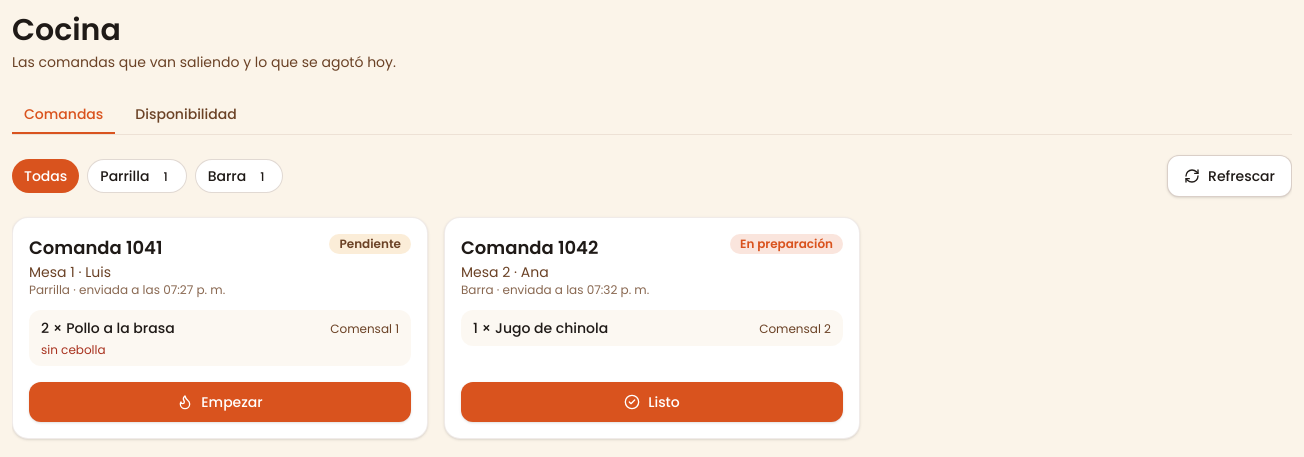
Cocina › filtra por estación y pide solo esa estación al servidor
The width and height of the screenshot is (1304, 457).
Expected: the text "Comanda 1041" is shown, left=29, top=235, right=162, bottom=260
What coordinates should you click on to do the following:
click the button "Barra1"
I would click on:
 (239, 176)
Its box is left=195, top=159, right=284, bottom=193.
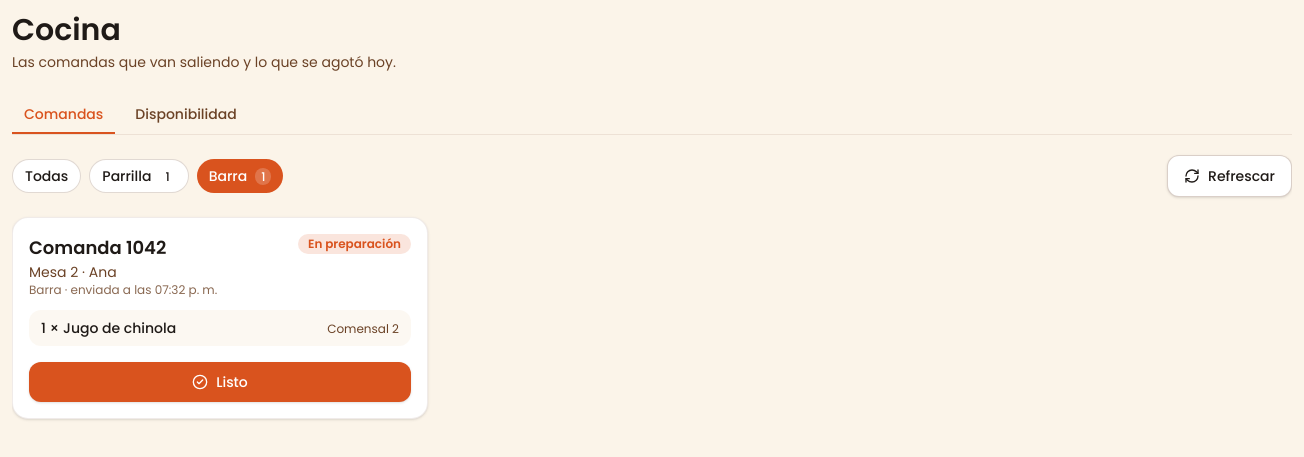
Expected: the text "Comanda 1042" is shown, left=29, top=235, right=166, bottom=260
Expected: the text "Comanda 1041" is gone
